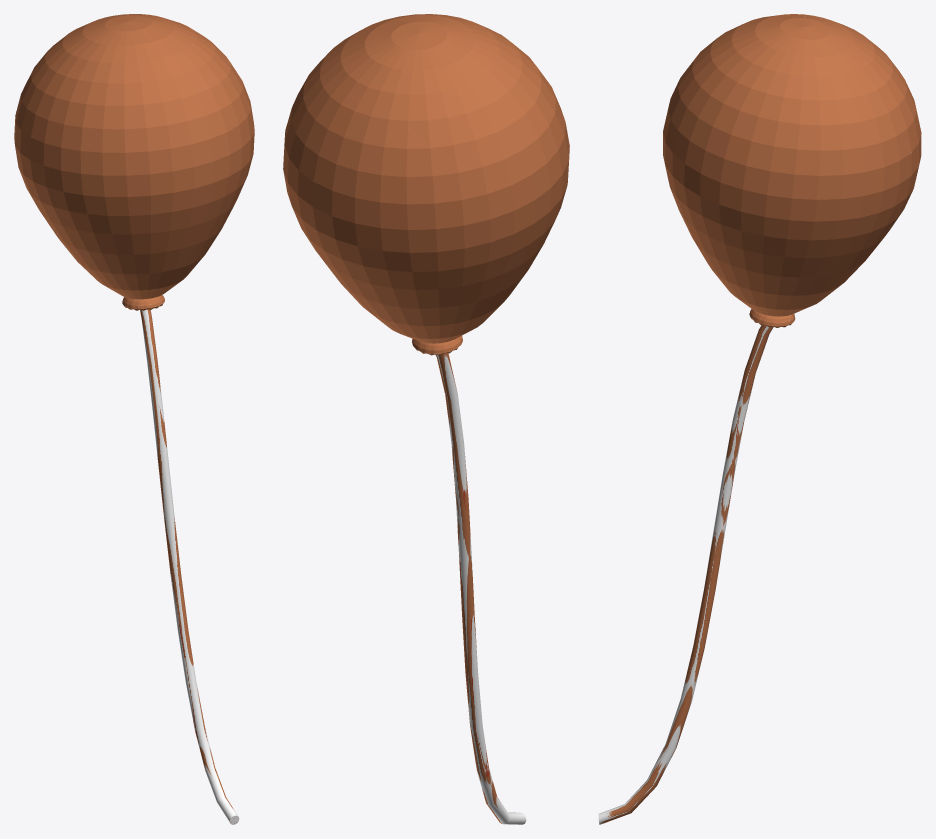
The model's file is extraPayaso.obj.
3 views of the same model, side by side, from view 1: azimuth 30°, elevation 25°; view 2: azimuth 150°, elevation 25°; view 3: azimuth 270°, elevation 25° (orthographic). The views are drawn at different scales.
Parts seen in each view (by area): view 1: Globo, Cuerda_globo, nudo; view 2: Globo, Cuerda_globo, nudo; view 3: Globo, Cuerda_globo.
Part boxes in pixels (x1,y1,x2,y2): Globo: (14, 14, 254, 299); Cuerda_globo: (140, 309, 239, 824); nudo: (122, 295, 164, 310); Globo: (283, 14, 569, 343); Cuerda_globo: (435, 353, 526, 824); nudo: (412, 336, 462, 355); Globo: (663, 14, 921, 316); Cuerda_globo: (598, 325, 773, 824).
Size of the model in its own units: 1.79 by 6.02 by 2.22.
Materials: 1 (1 with a texture image).
